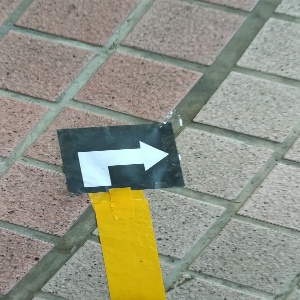right: (57, 123, 184, 191)
